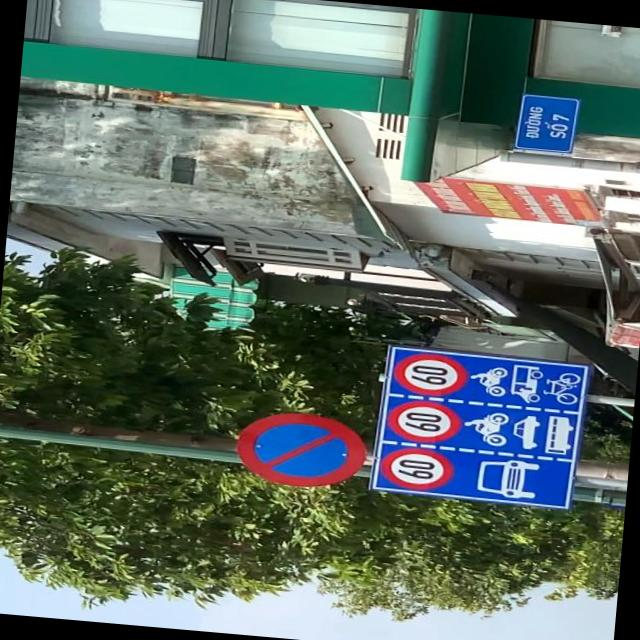P-127c: (371, 343, 584, 506)
P-131a: (229, 408, 367, 492)
